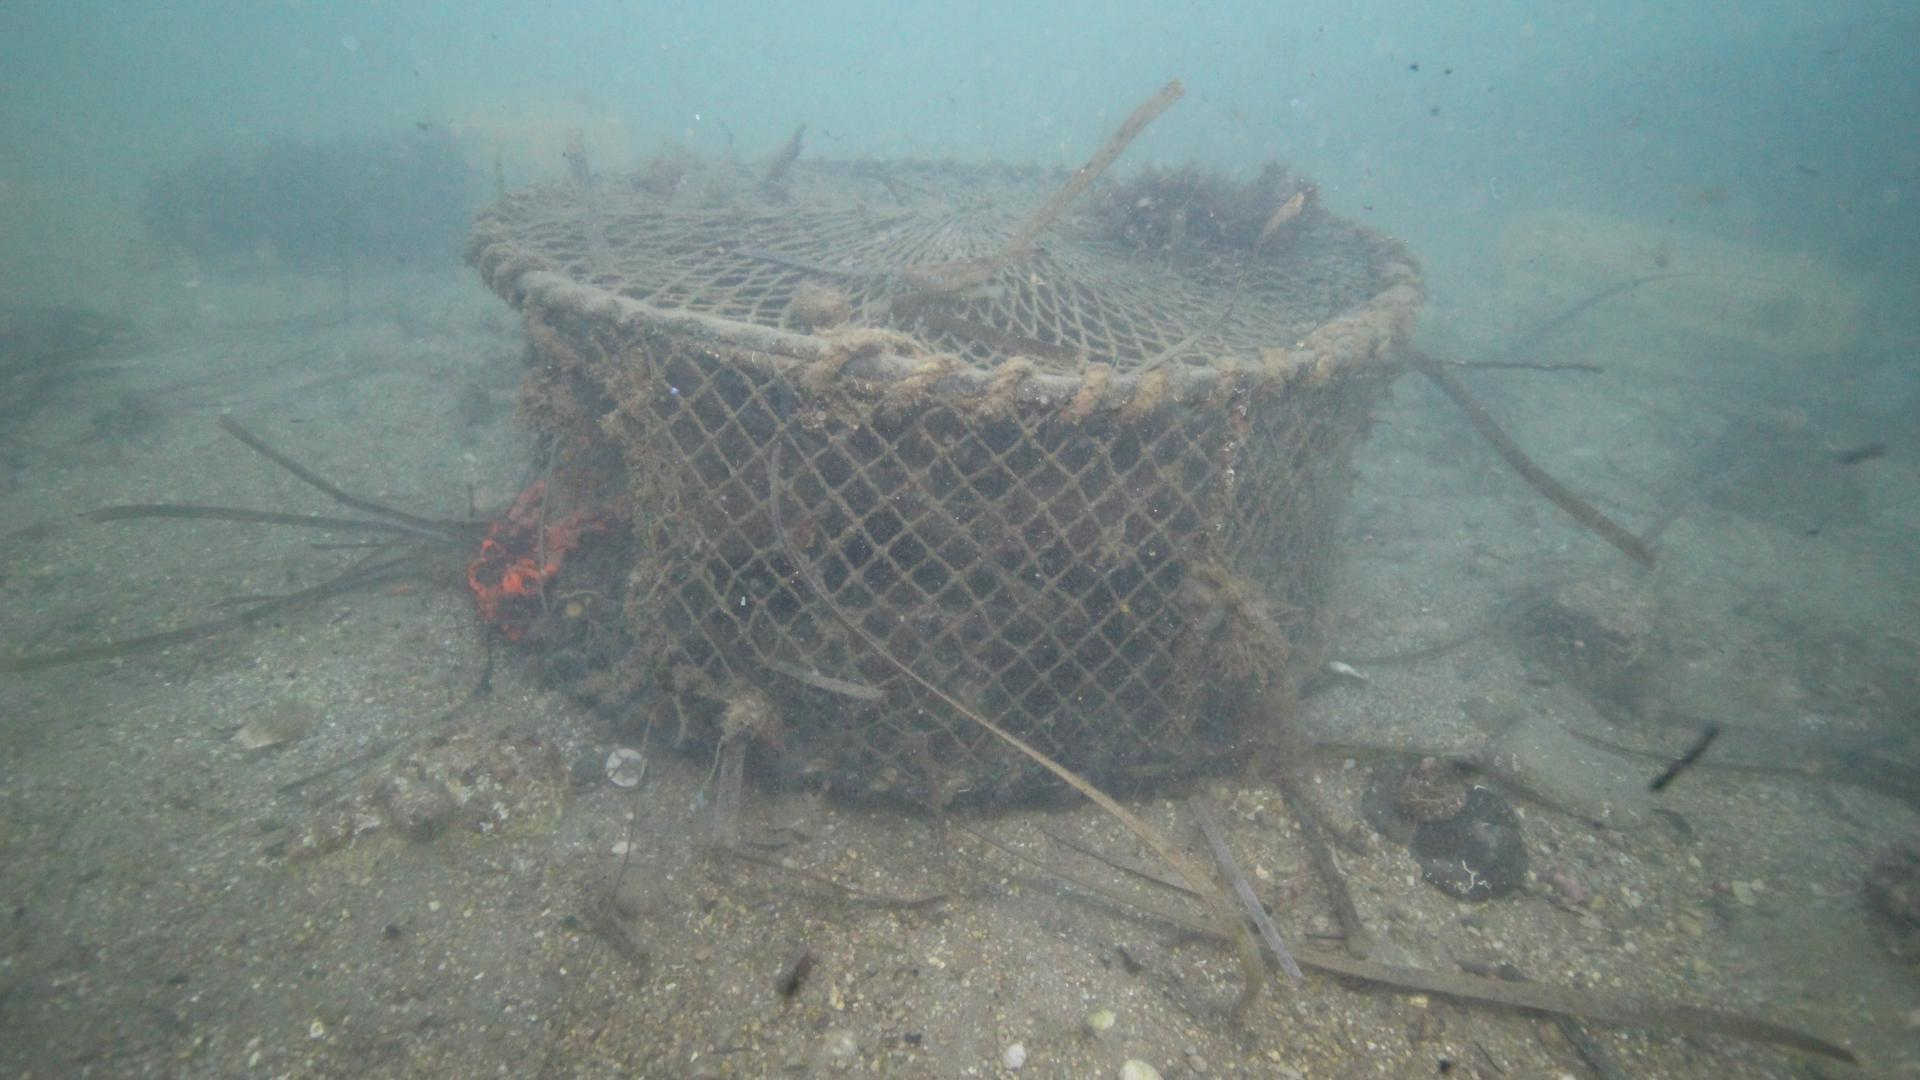circular fish trap: (458, 156, 1433, 818)
